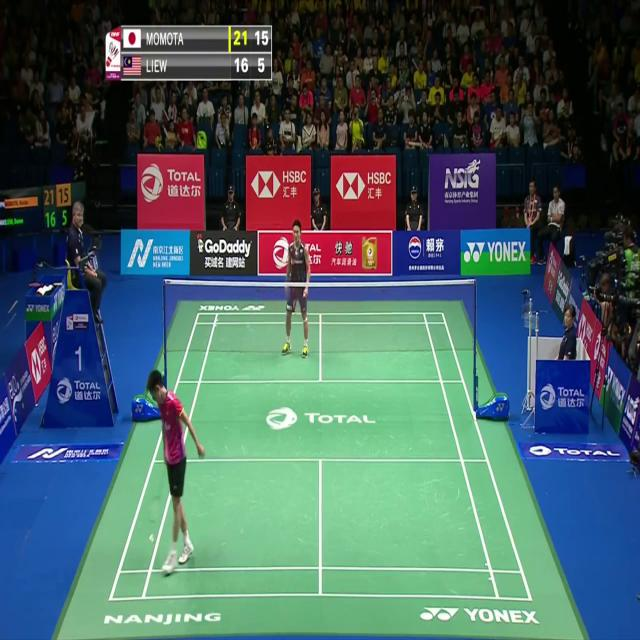Shuttlecock: (148, 533, 155, 544)
